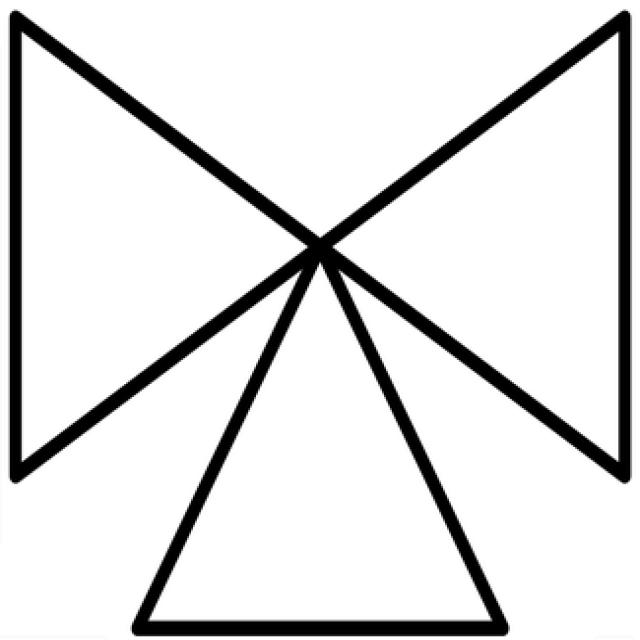3-way Valve: (15, 14, 318, 477), (324, 16, 624, 480), (139, 246, 501, 629)
